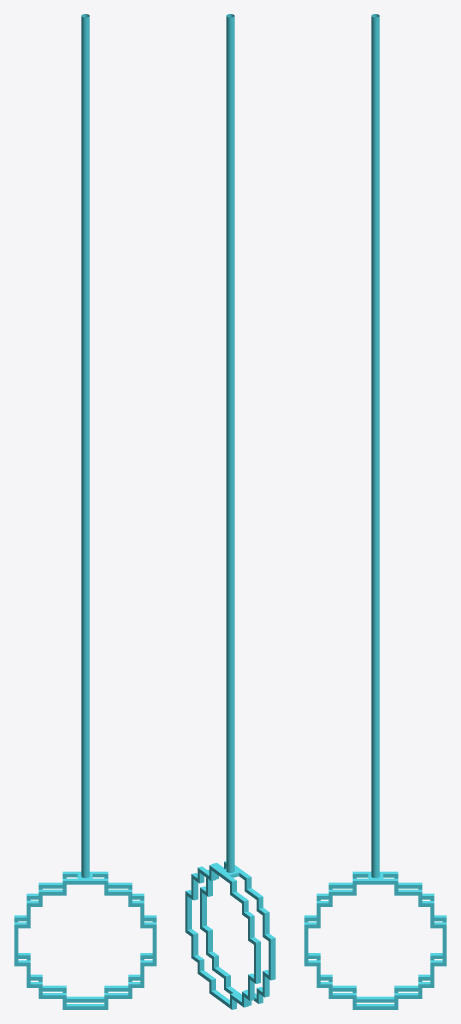
Rendered from cutter7_pixel.fbx.
The picture shows the model from 3 angles, left to right: view 1: azimuth 90°, elevation 25°; view 2: azimuth 210°, elevation 25°; view 3: azimuth 270°, elevation 25°; orthographic projection.
Visible parts, largest first — view 1: Cutter7_Pixel; view 2: Cutter7_Pixel; view 3: Cutter7_Pixel.
Boxes of the visible parts, bbox=[...] form: Cutter7_Pixel: bbox=[14, 14, 156, 1009]; Cutter7_Pixel: bbox=[185, 14, 275, 1009]; Cutter7_Pixel: bbox=[304, 14, 446, 1009].
Bounding box in the file's own units: 16.87 × 814 × 106.
